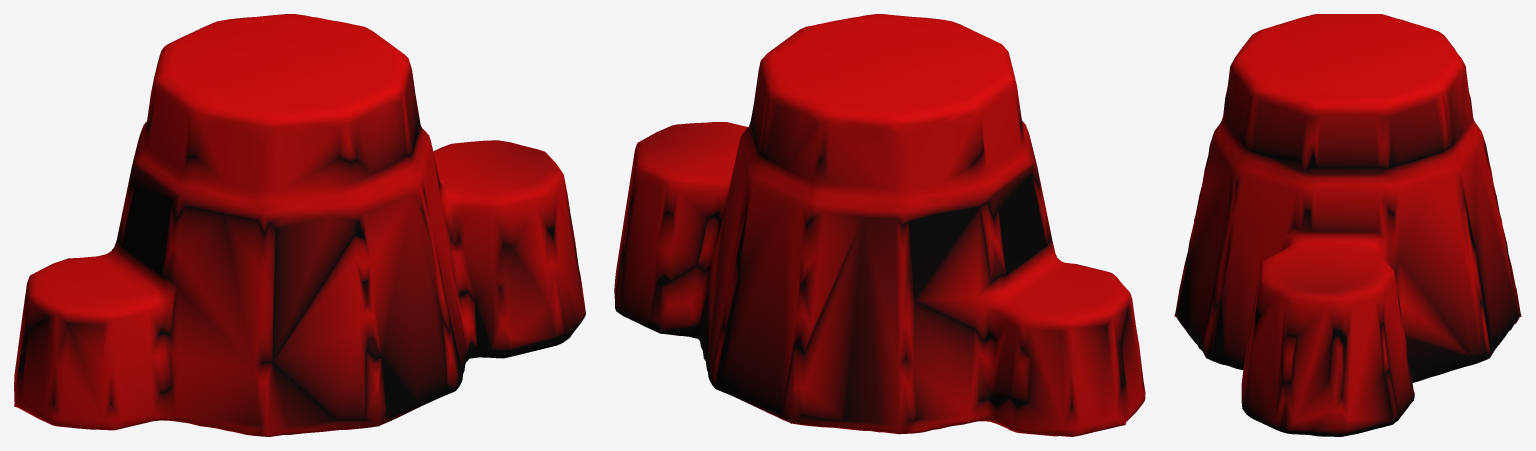
Rendered from bg-dunes-a.glb.
3 views of the same model, side by side, from view 1: azimuth 30°, elevation 25°; view 2: azimuth 150°, elevation 25°; view 3: azimuth 270°, elevation 25° (orthographic). The views are drawn at different scales.
Visible parts, largest first — view 1: butte; view 2: butte; view 3: butte.
Boxes of the visible parts, x1,y1,x2,y2 form: butte: (14, 14, 585, 436); butte: (614, 14, 1145, 436); butte: (1174, 14, 1521, 436).
Size of the model in its own units: 14.88 by 7.9 by 9.47.
